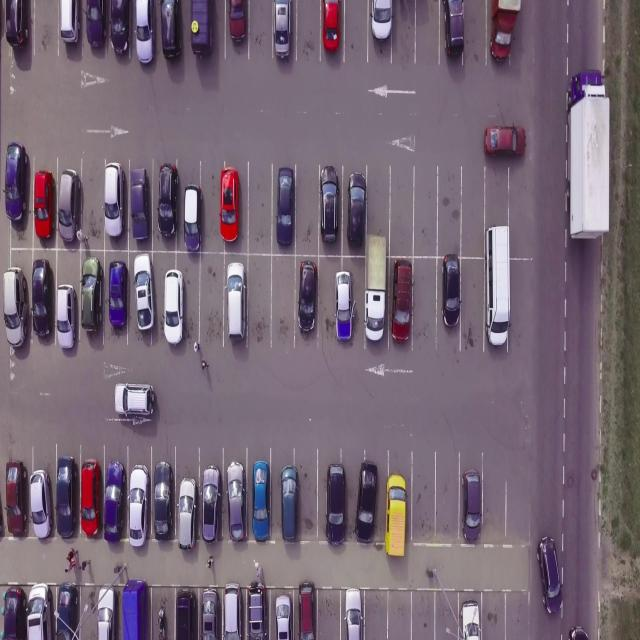Car: (3, 141, 29, 224), (2, 267, 27, 349), (538, 536, 563, 616), (354, 459, 378, 542), (103, 460, 126, 544), (3, 461, 28, 537), (128, 463, 150, 548), (55, 455, 77, 540), (132, 254, 156, 331), (225, 460, 247, 542), (102, 161, 125, 239), (391, 259, 412, 344), (200, 464, 222, 545), (80, 259, 104, 333), (59, 169, 82, 246), (225, 262, 247, 341), (162, 268, 184, 346), (152, 461, 173, 542), (318, 166, 340, 243), (79, 458, 100, 538), (156, 162, 178, 238), (325, 463, 345, 546), (32, 259, 53, 338), (218, 167, 240, 242), (130, 168, 152, 242), (275, 166, 295, 247), (30, 471, 54, 538), (252, 460, 271, 542), (462, 468, 483, 542), (484, 124, 527, 160), (132, 0, 155, 66), (34, 169, 55, 240), (280, 465, 299, 542), (442, 254, 462, 327), (298, 261, 318, 333), (114, 382, 155, 417), (348, 172, 367, 247), (176, 479, 196, 550), (157, 0, 181, 59), (334, 272, 354, 342), (108, 260, 128, 328), (56, 284, 77, 348), (107, 0, 130, 58), (56, 583, 79, 640), (183, 185, 202, 252), (4, 586, 27, 640), (443, 0, 465, 56), (4, 0, 28, 51), (248, 580, 268, 640), (222, 582, 242, 640), (83, 0, 107, 48), (96, 586, 117, 640), (320, 0, 342, 51), (298, 581, 317, 640), (272, 0, 291, 59), (59, 0, 82, 47), (344, 587, 364, 640), (176, 588, 196, 640), (369, 0, 394, 40), (202, 588, 220, 640), (274, 592, 292, 640), (461, 600, 481, 640), (227, 0, 246, 40), (568, 626, 589, 640)
Cycle: (155, 602, 166, 640)
Truck: (570, 69, 610, 244), (364, 233, 388, 345), (488, 0, 521, 61)
Van: (484, 224, 513, 348), (386, 474, 406, 559), (122, 576, 147, 640), (27, 584, 55, 640), (190, 0, 214, 55)
